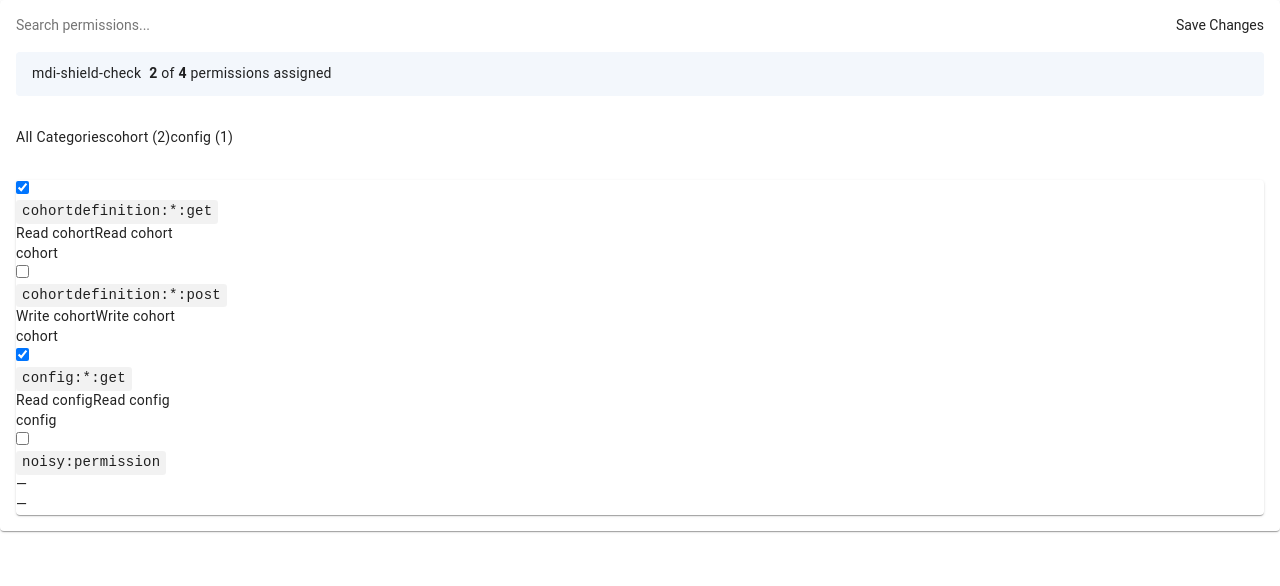
Test: RolePermissionsTab interactions › reports an error when assignPermissionToRole returns false
Click the 2nd checkbox with class "stub-checkbox" at x=22, y=271, box [16,265,29,278]
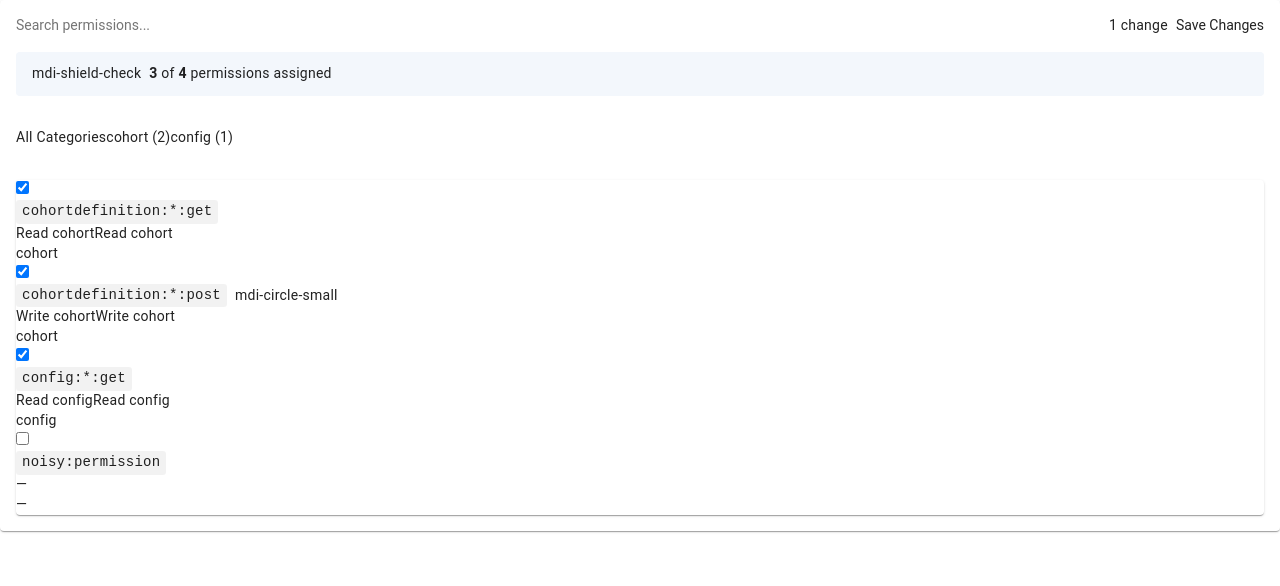
Click the button with class "stub-save-btn" at x=1220, y=26, box [1176,16,1264,36]
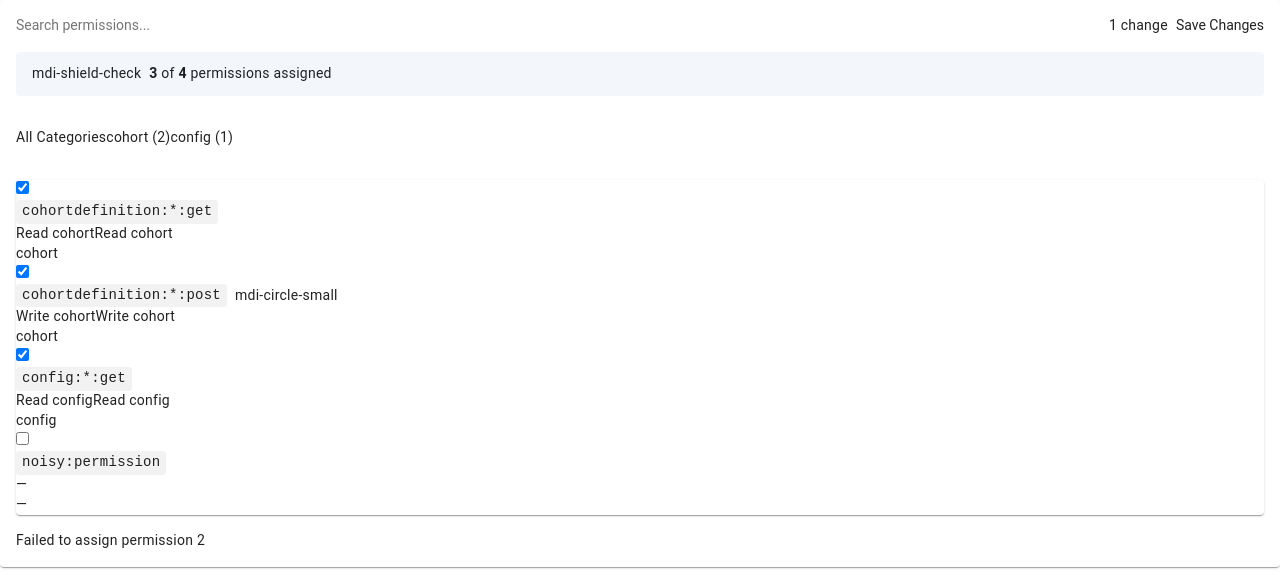
Expected: the text "Failed to assign permission 2" is shown, [16,532,205,548]
